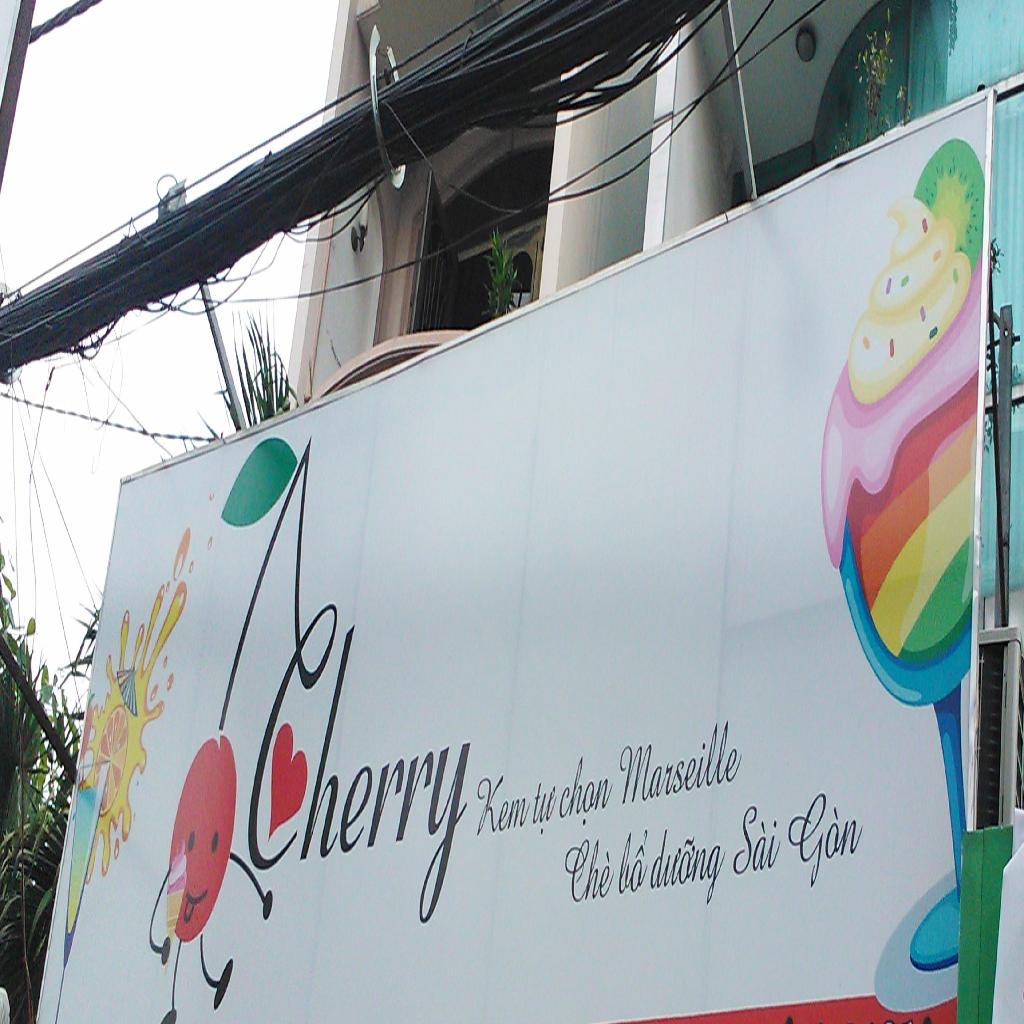text: (230, 592, 490, 930), (614, 713, 746, 812), (645, 817, 729, 916), (556, 745, 617, 834), (730, 798, 786, 880), (558, 832, 618, 906), (473, 767, 535, 837), (615, 825, 652, 901), (528, 776, 561, 840)
